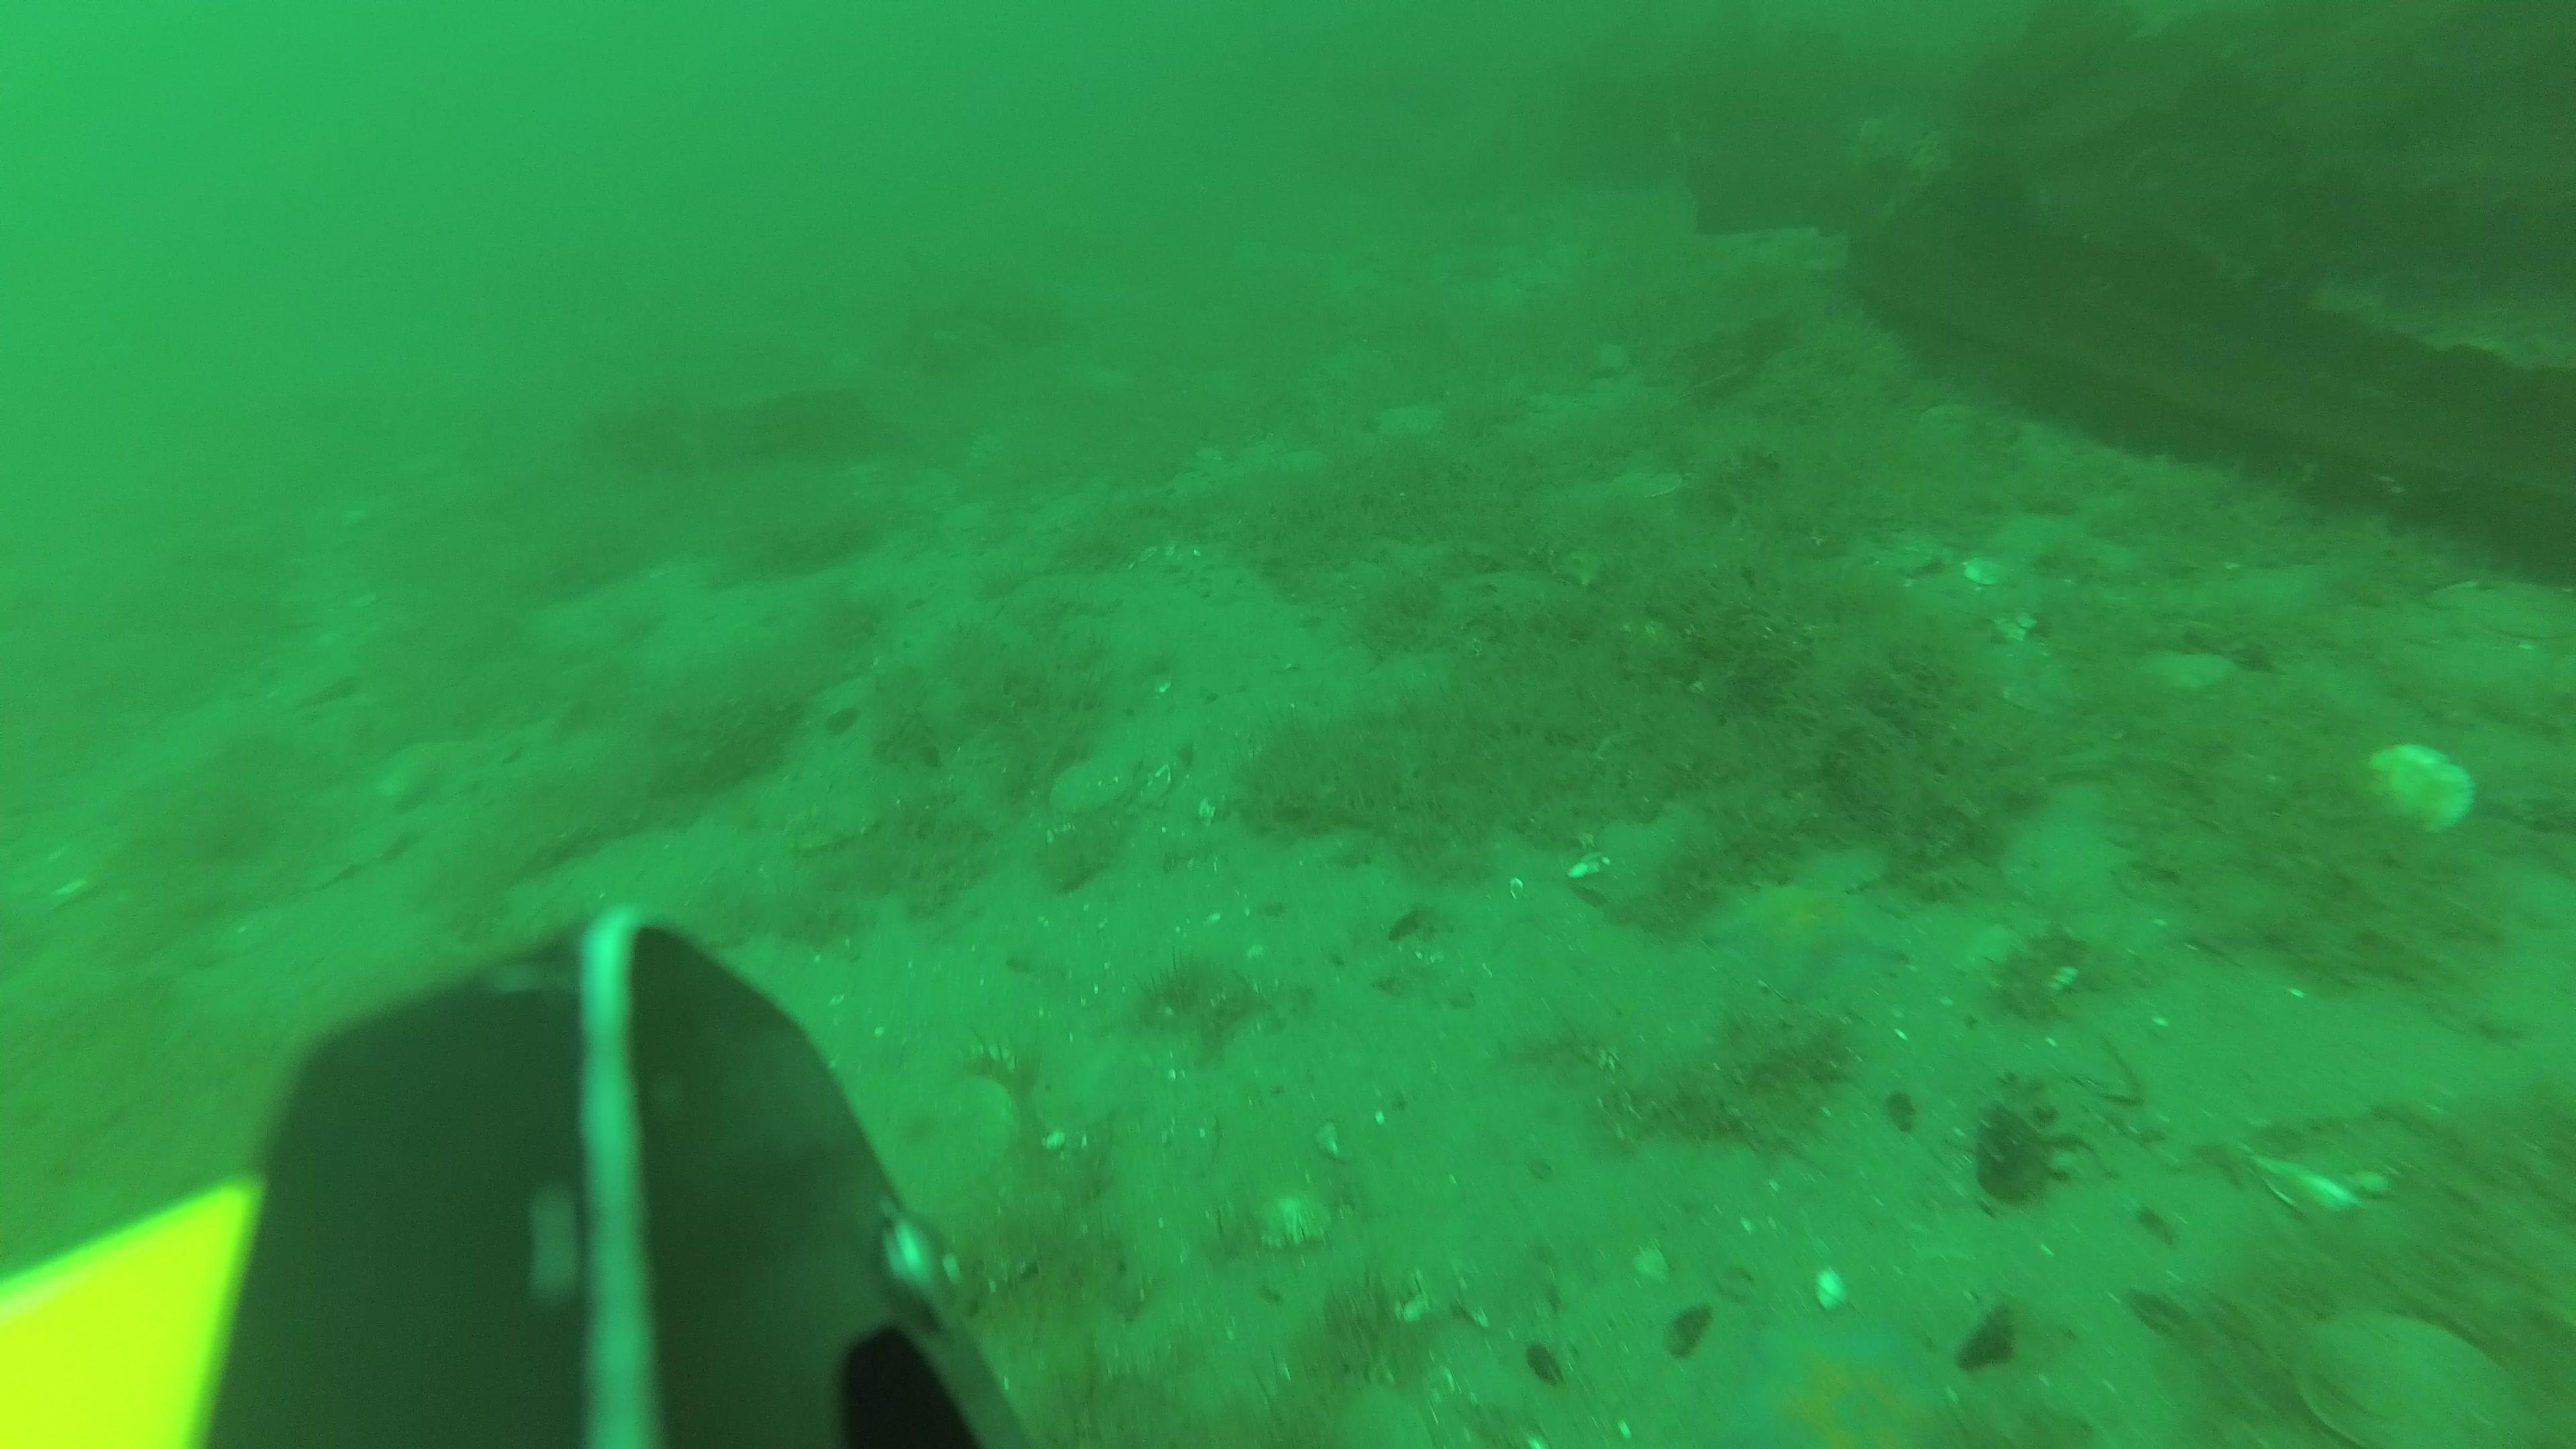scallop: (2288, 1302, 2523, 1449), (2350, 736, 2484, 846)
starfish: (1707, 1302, 1948, 1449), (1707, 870, 1904, 991)
